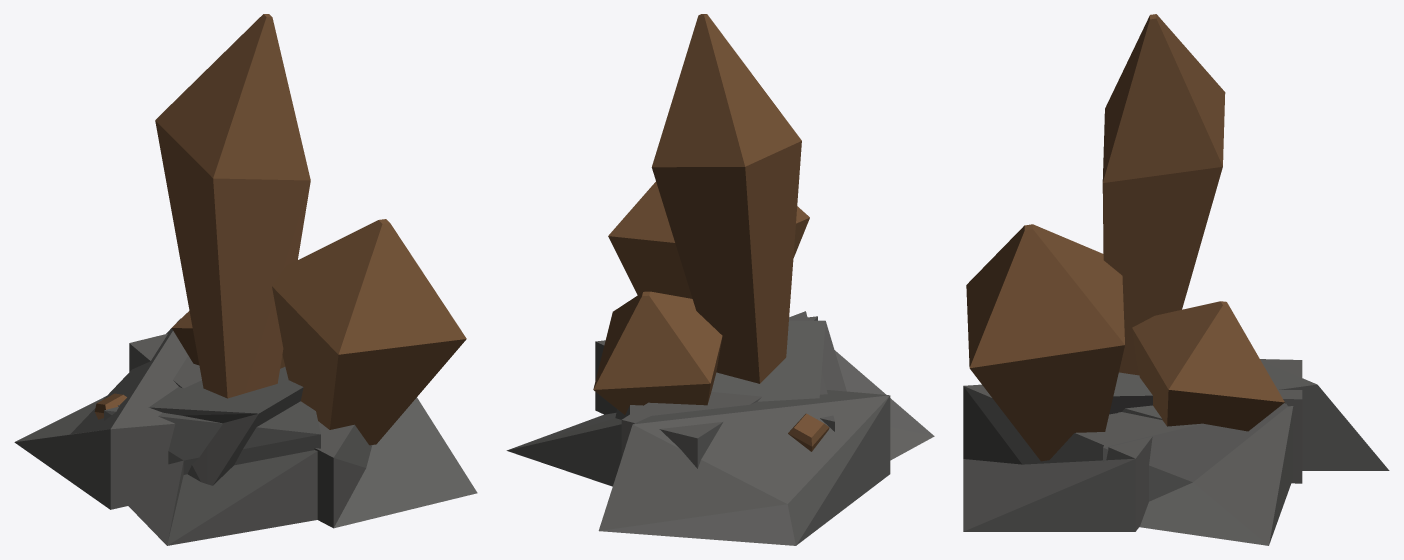
The model's file is copperOre.fbx.
The picture shows the model from 3 angles, left to right: view 1: azimuth 30°, elevation 25°; view 2: azimuth 150°, elevation 25°; view 3: azimuth 270°, elevation 25°; orthographic projection. The views are drawn at different scales.
Visible parts, largest first — view 1: ore; view 2: ore; view 3: ore.
Boxes of the visible parts, bbox=[...] form: ore: bbox=[14, 14, 477, 545]; ore: bbox=[506, 14, 934, 545]; ore: bbox=[963, 14, 1389, 545].
Size of the model in its own units: 38.31 by 51.14 by 42.74.
